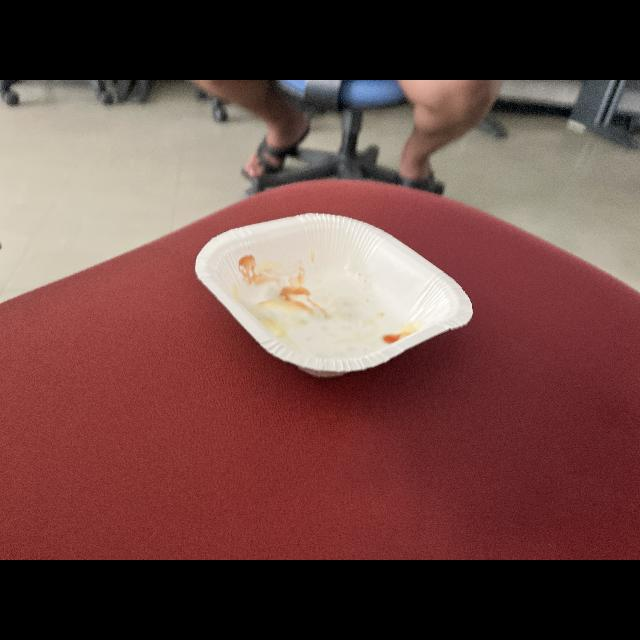cardboard_bowl: (192, 205, 473, 379)
